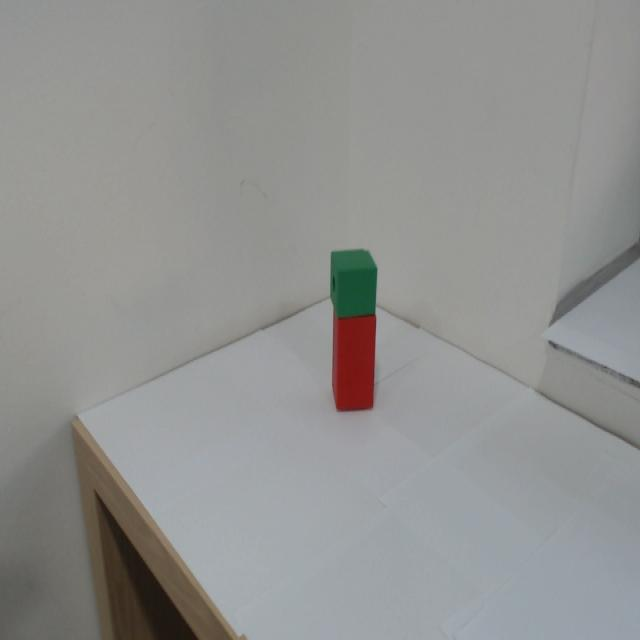cube: (324, 255, 381, 322)
